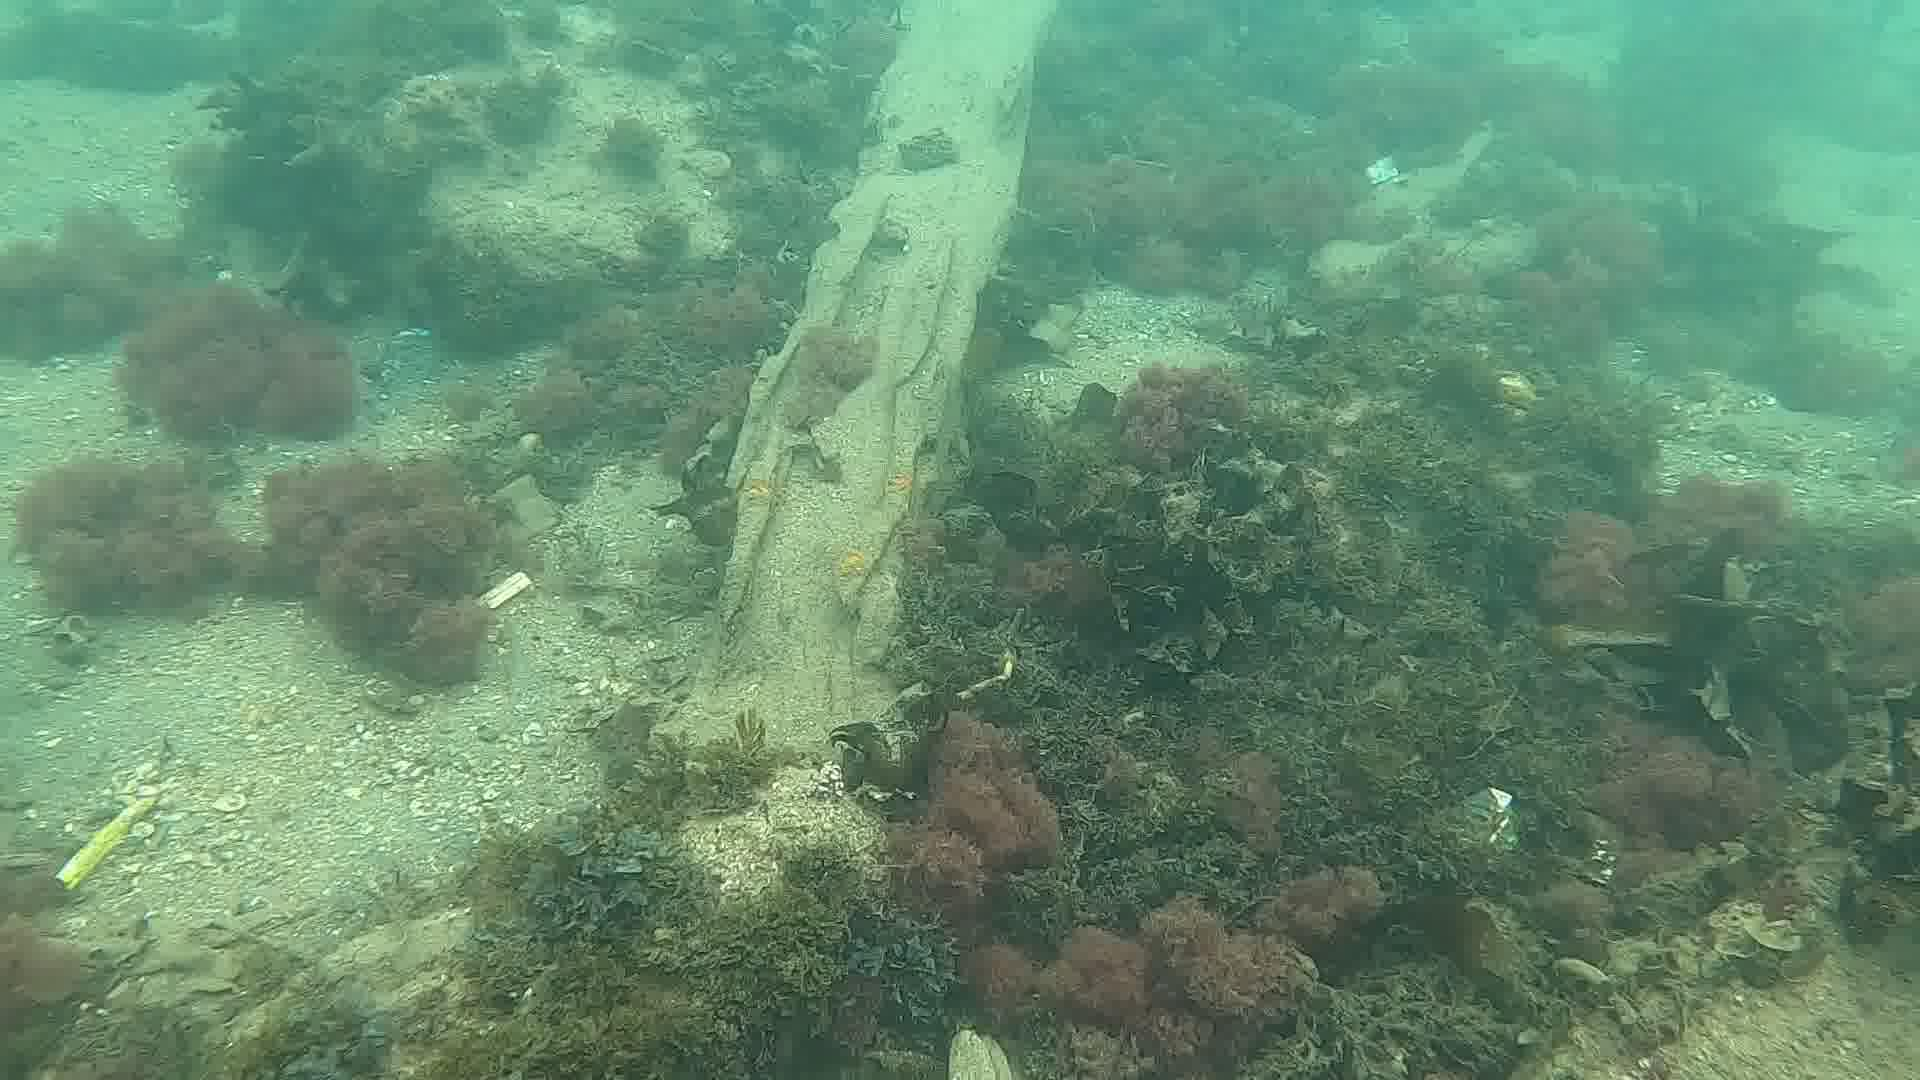wood: (647, 0, 1069, 764)
